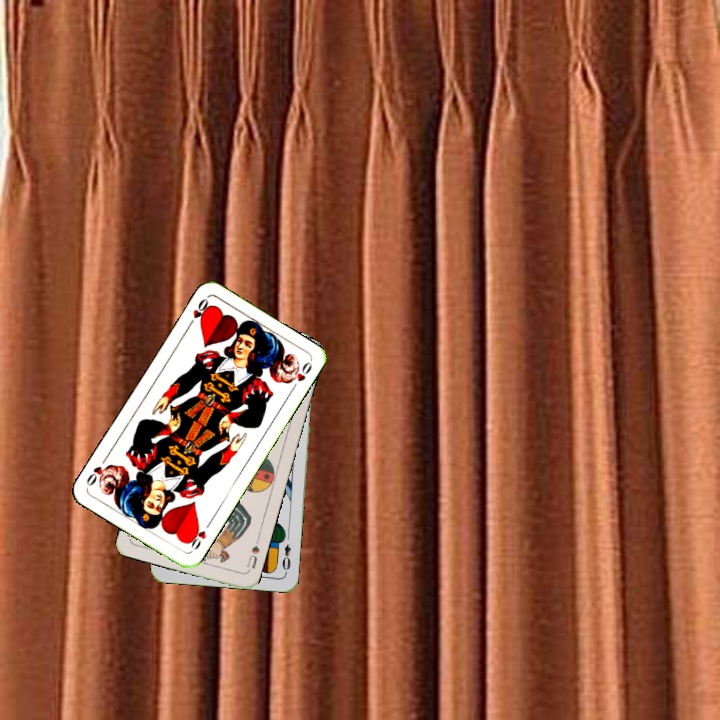EO: (278, 540, 294, 576)
HO: (184, 518, 213, 553), (184, 294, 212, 330)
SU: (243, 535, 262, 574)
